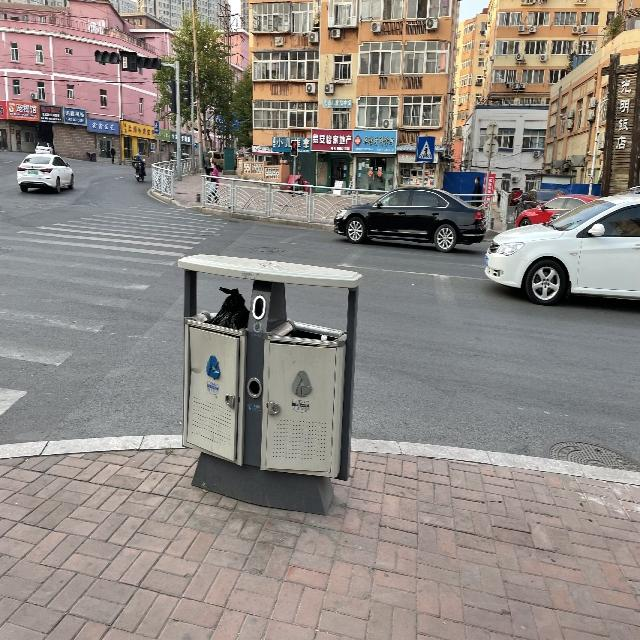overflow: (177, 252, 361, 514)
